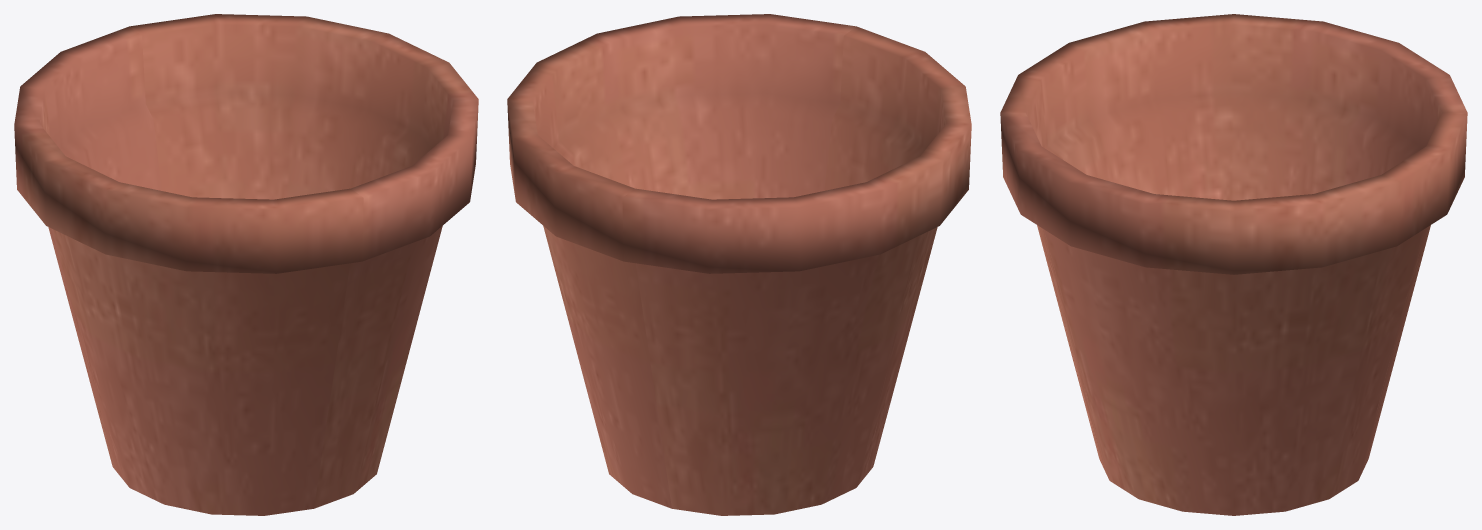
File: clay_flower_pot.glb
3 renders of one model, left to right at view 1: azimuth 30°, elevation 25°; view 2: azimuth 150°, elevation 25°; view 3: azimuth 270°, elevation 25°, orthographic.
Parts seen in each view (by area): view 1: Cylinder; view 2: Cylinder; view 3: Cylinder.
Boxes of the visible parts, <box> form: Cylinder: <box>14,14,478,515</box>; Cylinder: <box>507,14,971,515</box>; Cylinder: <box>1000,14,1467,515</box>.
Bounding box in the file's own units: 0.1956 × 0.1599 × 0.1956.
Materials: 1 (1 with a texture image).
